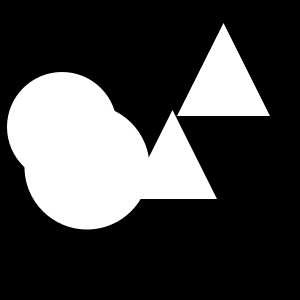rectangle: (24, 104, 150, 230), (7, 72, 117, 182)
triangle: (177, 23, 270, 116), (128, 110, 217, 199), (66, 104, 118, 156)
